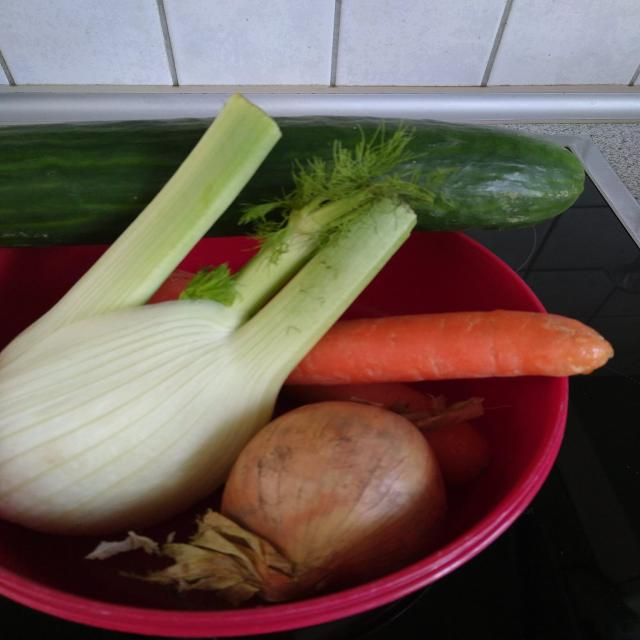Carrot: (283, 310, 611, 387)
Cucumber: (0, 115, 588, 243)
